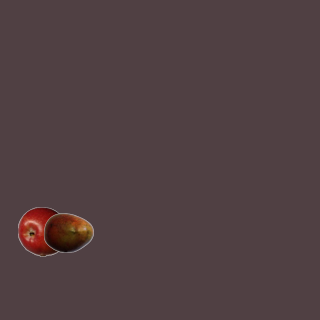Apple Braeburn: (17, 206, 67, 256)
Mango Red: (43, 207, 93, 257)
